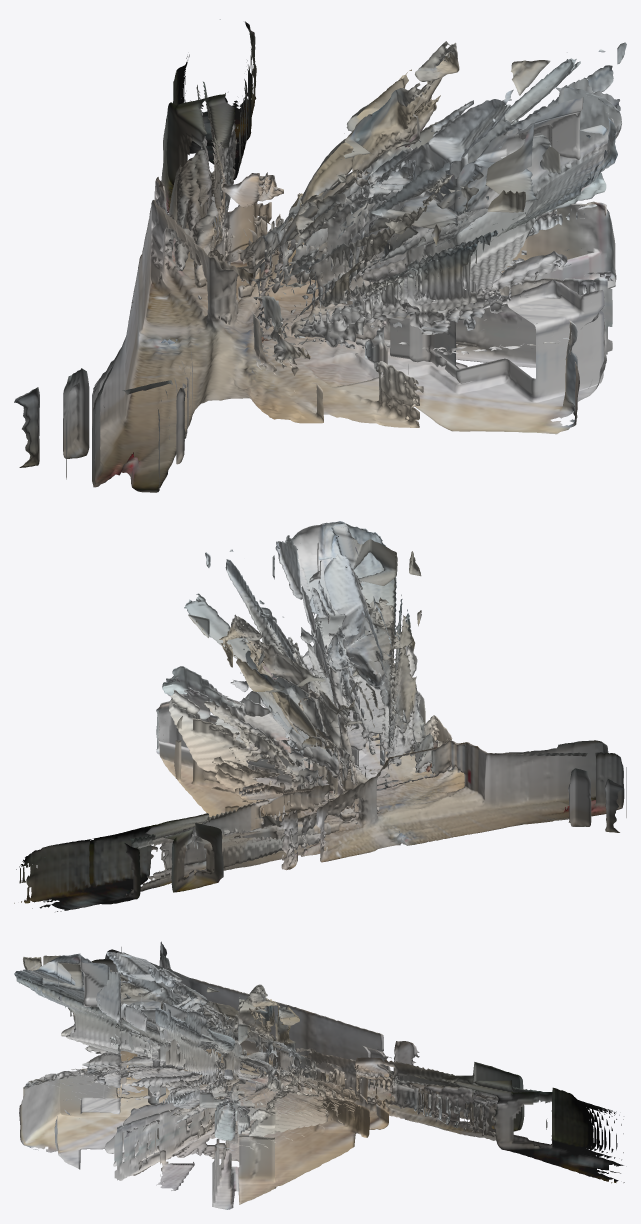
Rendered from 0-world.glb.
The picture shows the model from 3 angles, top to bottom: view 1: azimuth 30°, elevation 25°; view 2: azimuth 150°, elevation 25°; view 3: azimuth 270°, elevation 25°; orthographic projection. The views are drawn at different scales.
Parts seen in each view (by area): view 1: world; view 2: world; view 3: world.
Part boxes in pixels (x1=…): world: x1=14, y1=19, x2=626, y2=492; world: x1=14, y1=521, x2=626, y2=911; world: x1=14, y1=941, x2=624, y2=1209.
Bounding box in the file's own units: 23.15 × 10.17 × 27.18.
